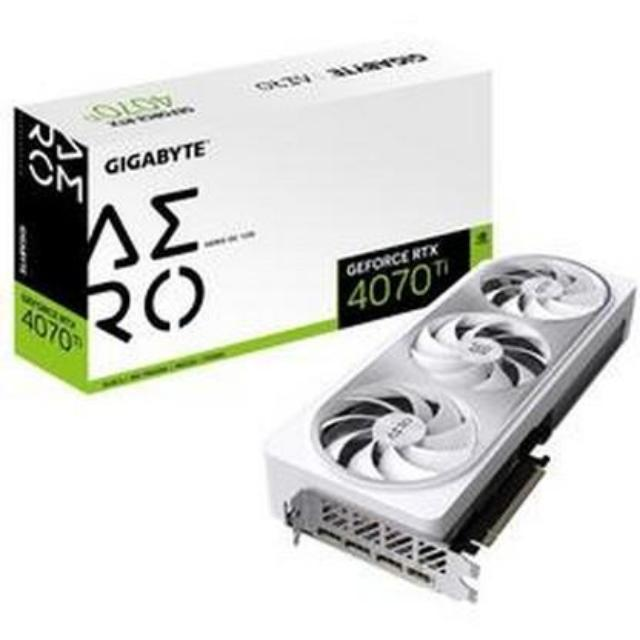GPU: (264, 252, 638, 558)
